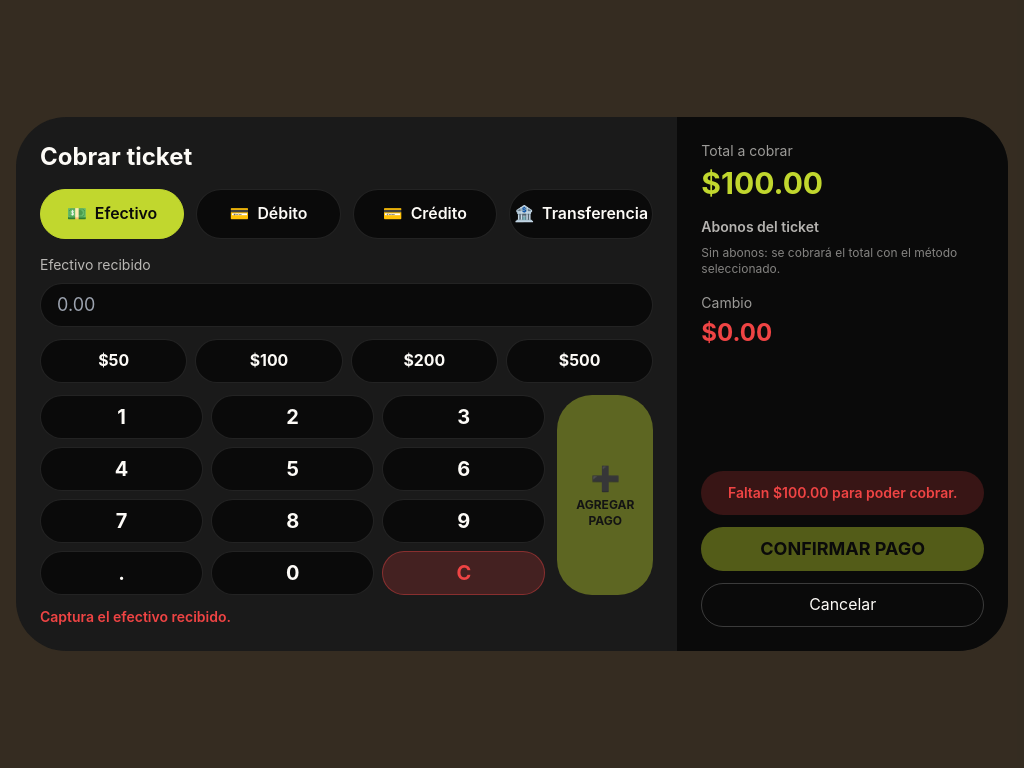
it: F9.1.3 — agregar pagos y ver el faltante › agrega un abono de efectivo y muestra el faltante
The image size is (1024, 768).
Type "40" into the number field labelled "Efectivo recibido".
click(347, 305); type("40")  # box [40,283,653,327]
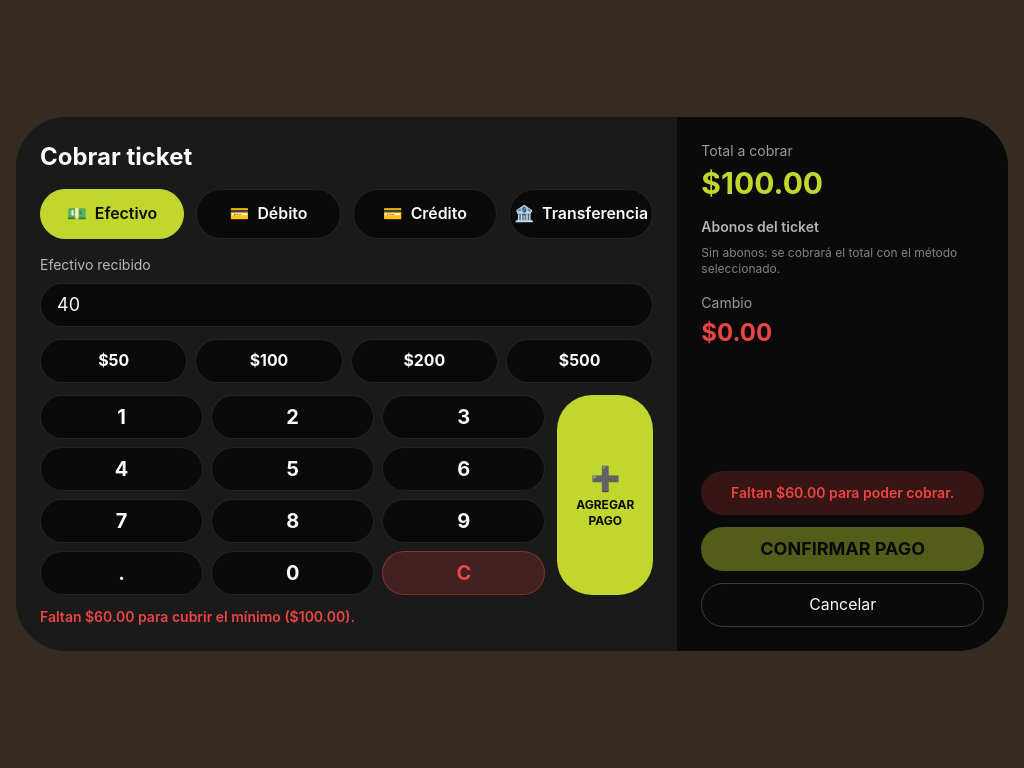
Click the button "➕ Agregar pago".
click(605, 495)  # box [557,395,653,595]
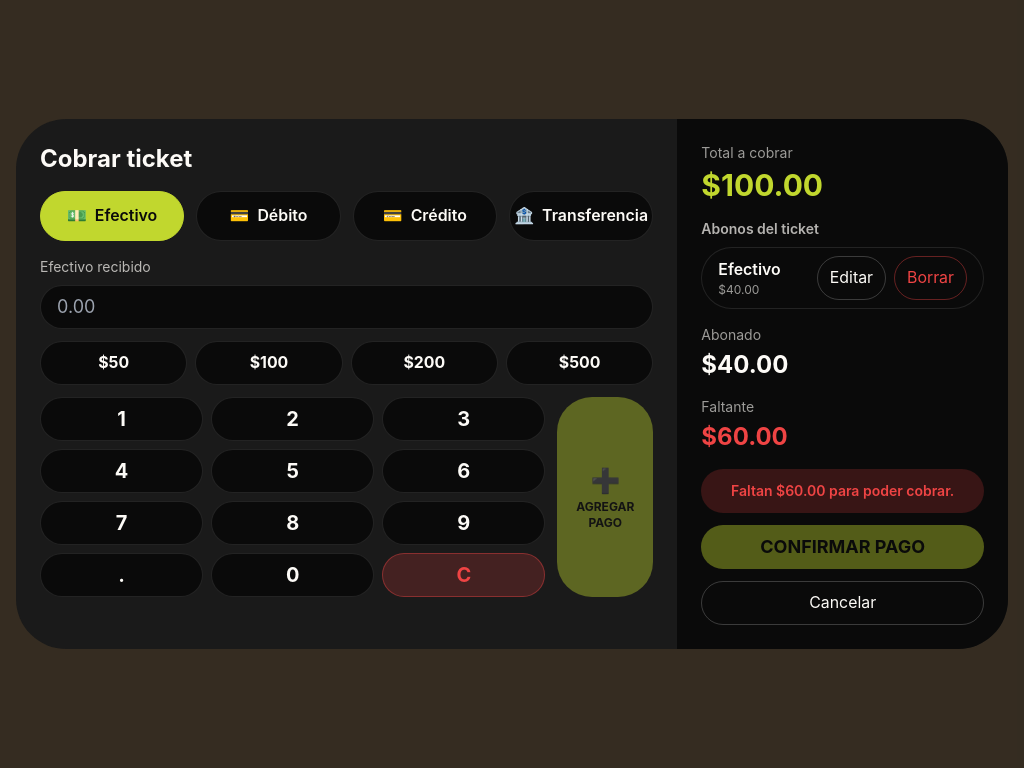
expect the number of list items is 1: met, box [701,247,984,309]
expect the list named "Abonos agregados" shows "Efectivo": met, box [718,260,781,279]
expect the text "Faltante" is shown: met, box [701,398,754,415]
